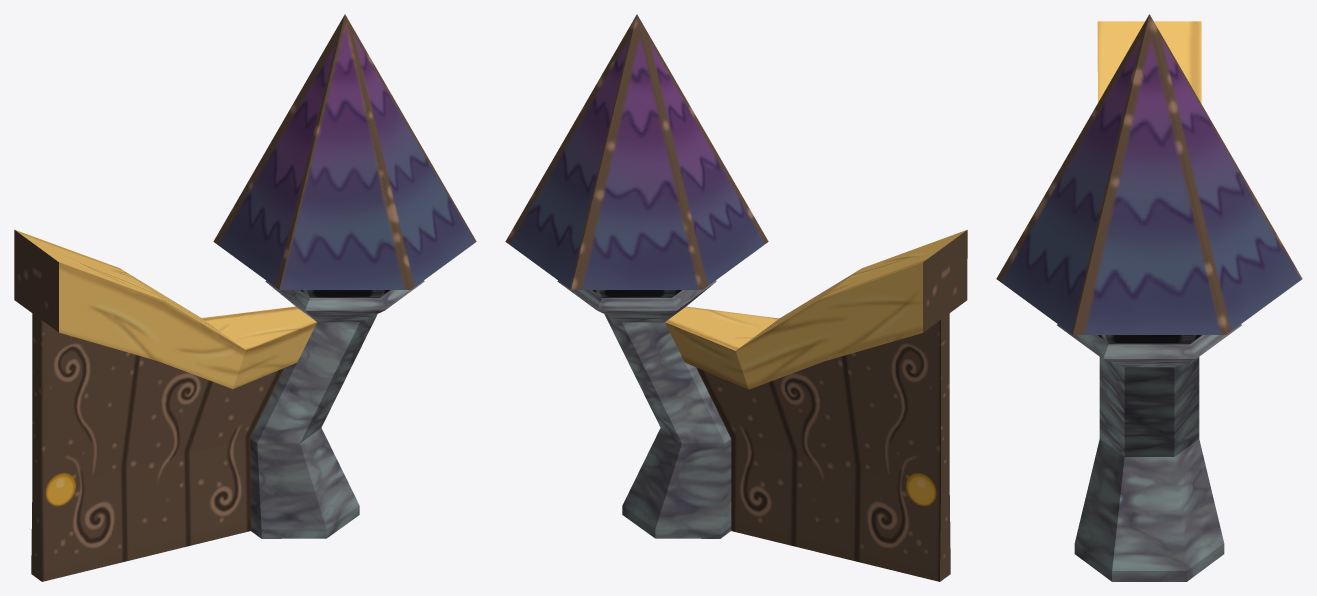
The model's file is wall_half.fbx.
The picture shows the model from 3 angles, left to right: view 1: azimuth 30°, elevation 25°; view 2: azimuth 150°, elevation 25°; view 3: azimuth 270°, elevation 25°; orthographic projection. The views are drawn at different scales.
Visible parts, largest first — view 1: pCylinder5; view 2: pCylinder5; view 3: pCylinder5.
Part boxes in pixels (x1,y1,x2,y2): pCylinder5: (14,14,476,581); pCylinder5: (505,14,967,581); pCylinder5: (996,14,1302,581).
Size of the model in its own units: 9.04 by 10.37 by 5.06.
1 material, 1 textured.
